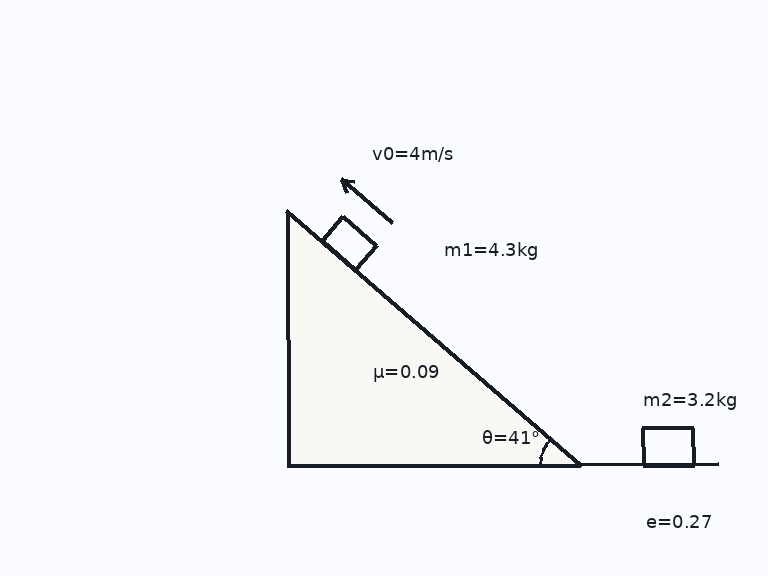block: (320, 214, 378, 271), (640, 426, 696, 467)
ramp: (285, 208, 582, 467)
